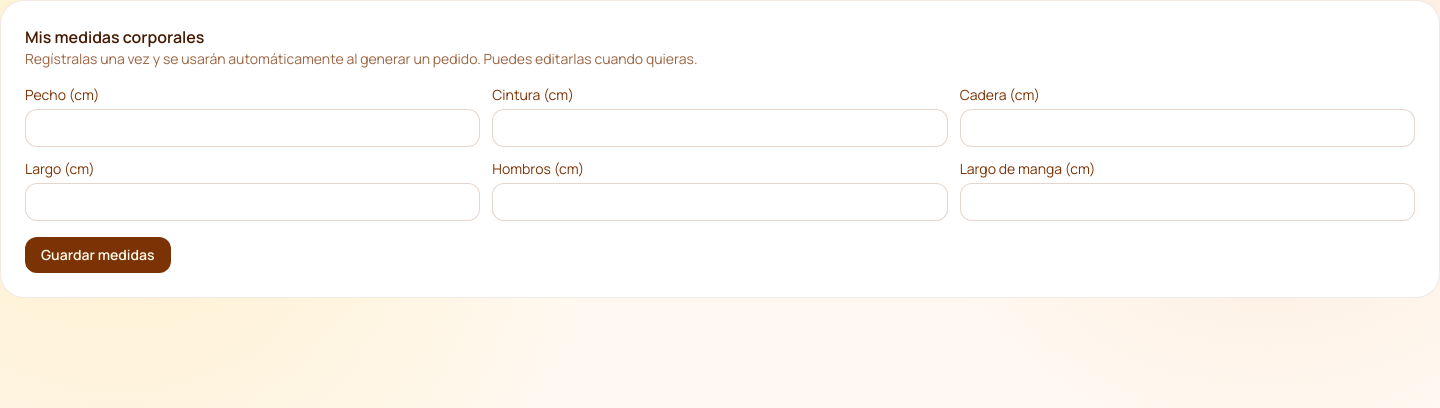
it: HU-08: registro de medidas corporales › valida que todos los campos obligatorios estén completos antes de guardar
Note: Con campos vacíos, no debe enviarse y muestra error.
Click the button "Guardar medidas" at point(98, 255), box [25, 237, 170, 273]
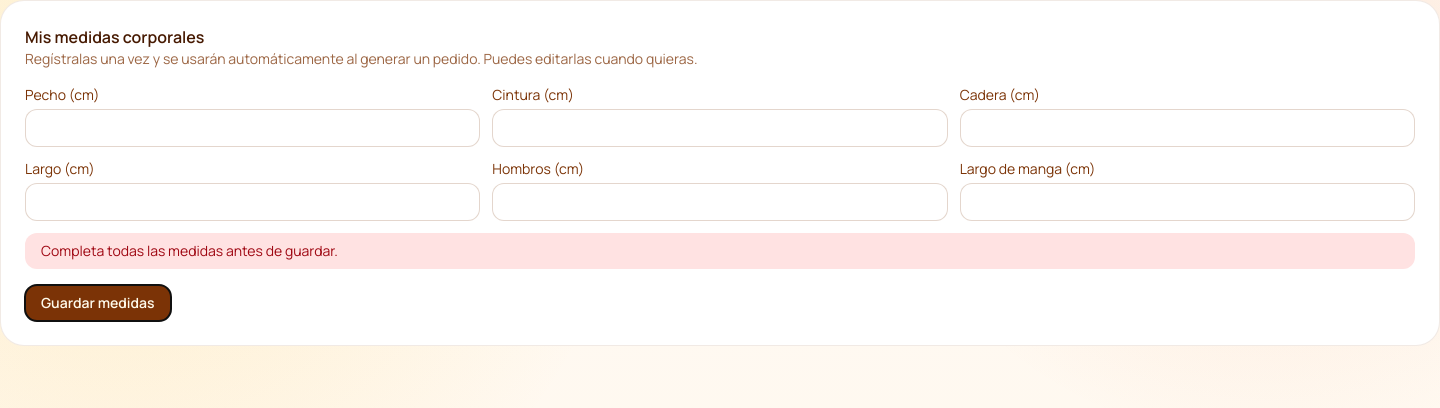
Expected: the text "Completa todas las medidas antes de guardar." is shown, [25, 233, 1415, 269]
